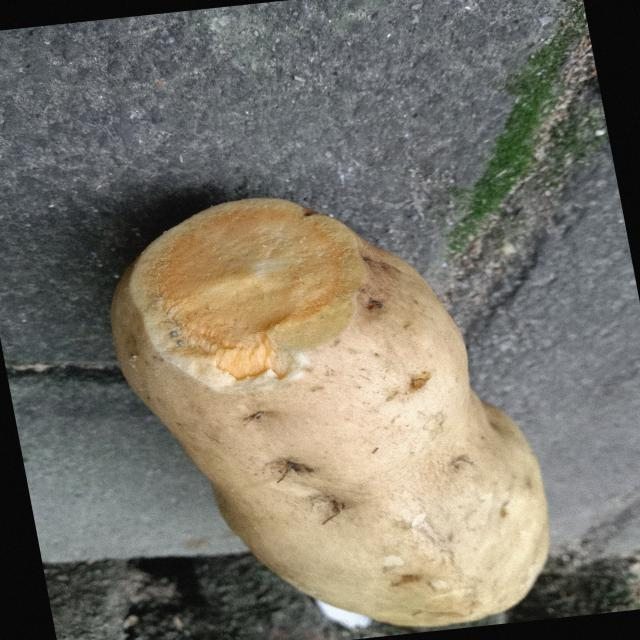Healthy Sweet Potato: (130, 199, 363, 394)
